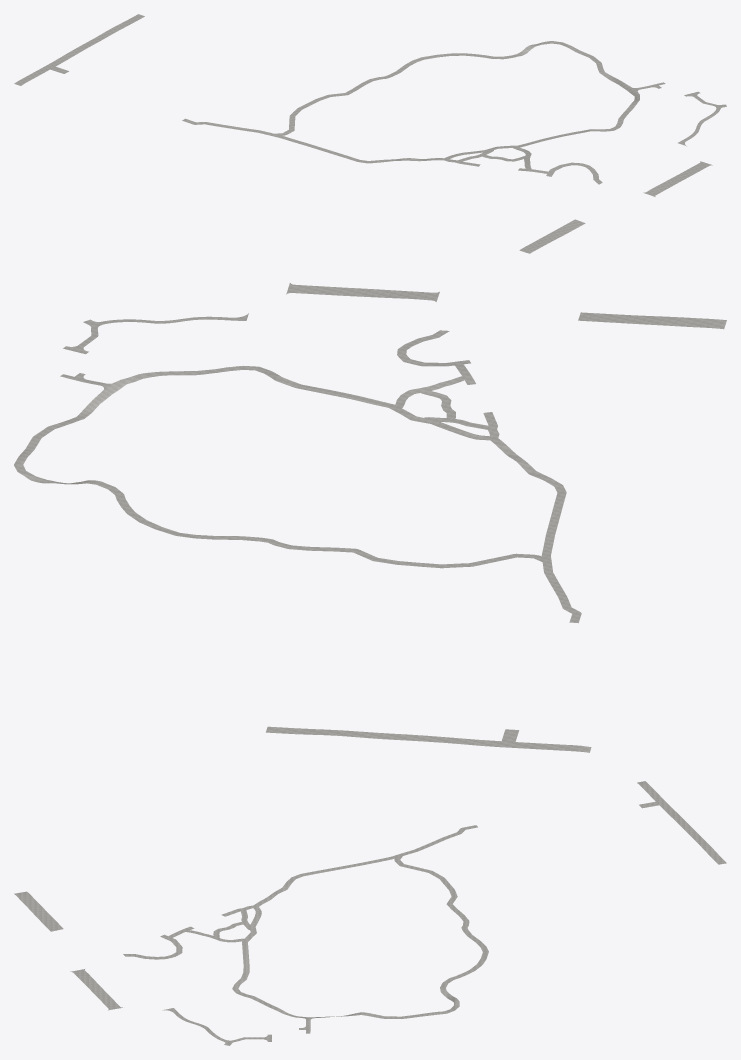
The model's file is pathway.glb.
3 views of the same model, one above another, from view 1: azimuth 30°, elevation 25°; view 2: azimuth 150°, elevation 25°; view 3: azimuth 270°, elevation 25° (orthographic). The views are drawn at different scales.
Parts seen in each view (by area): view 1: sidewalk; view 2: sidewalk; view 3: sidewalk.
Boxes of the visible parts, x1,y1,x2,y2 form: sidewalk: (14,14,726,253); sidewalk: (14,283,726,752); sidewalk: (14,781,726,1045).
Bounding box in the file's own units: 1192 × 10.72 × 1364.
Materials: 1 (1 with a texture image).
